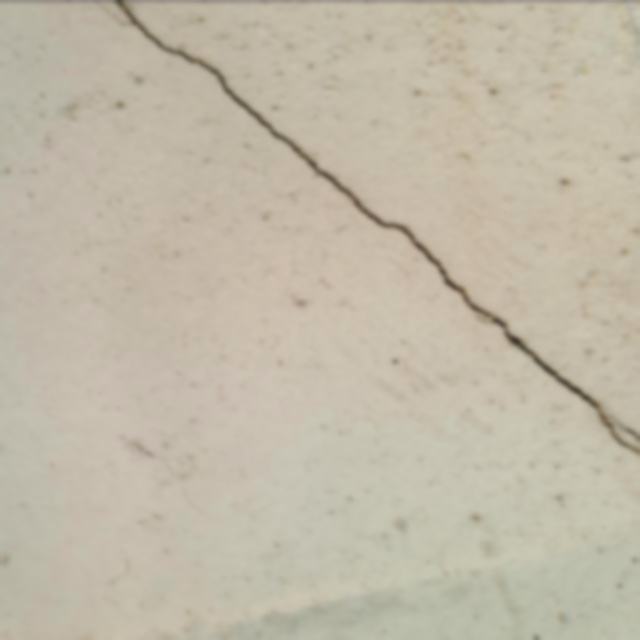SurfaceCrack: (21, 3, 640, 501)
